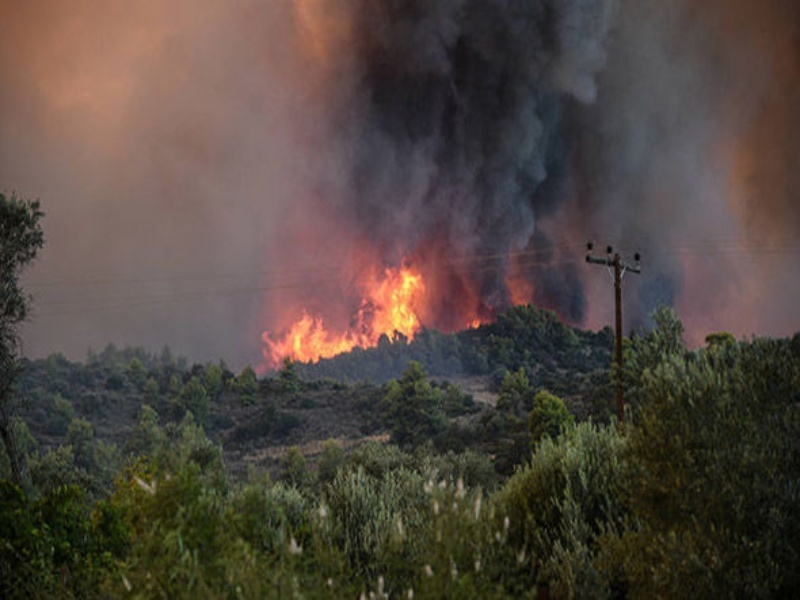smoke: (200, 1, 737, 286)
